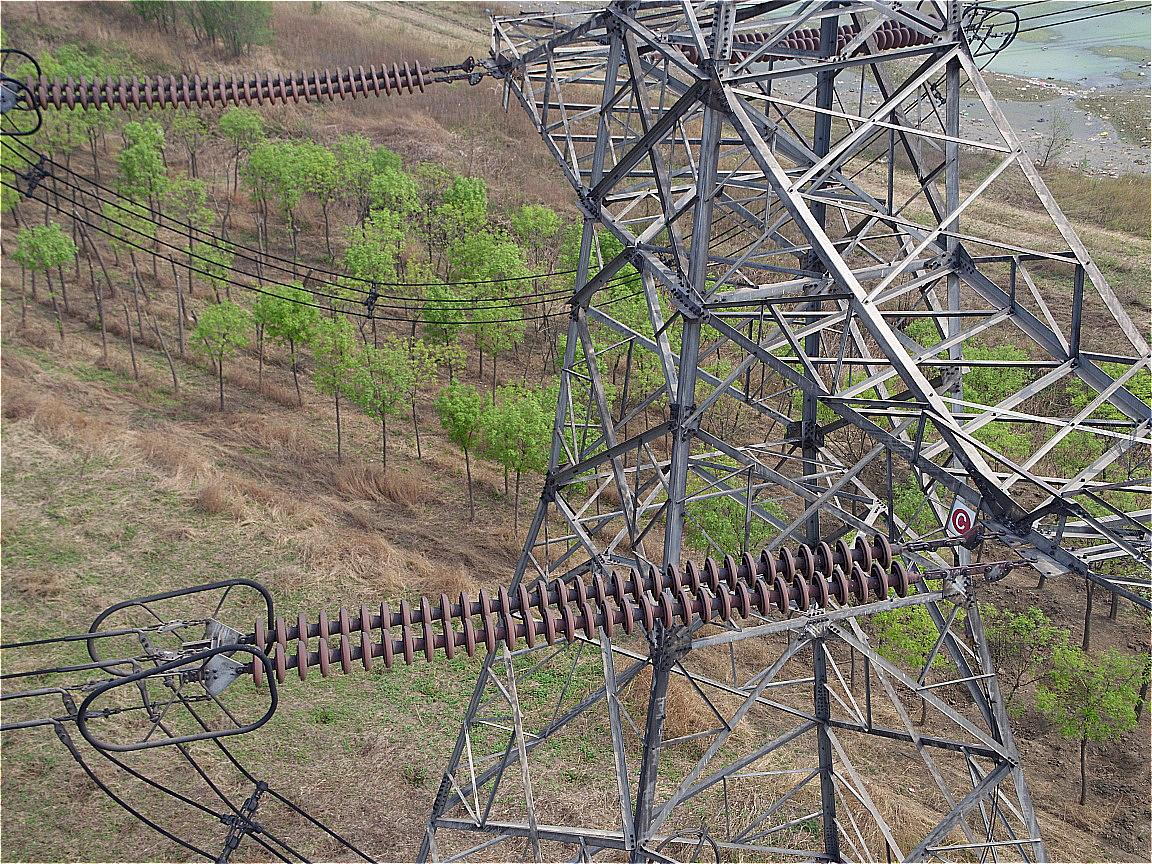insultor1: (252, 533, 911, 687), (24, 57, 427, 113)
